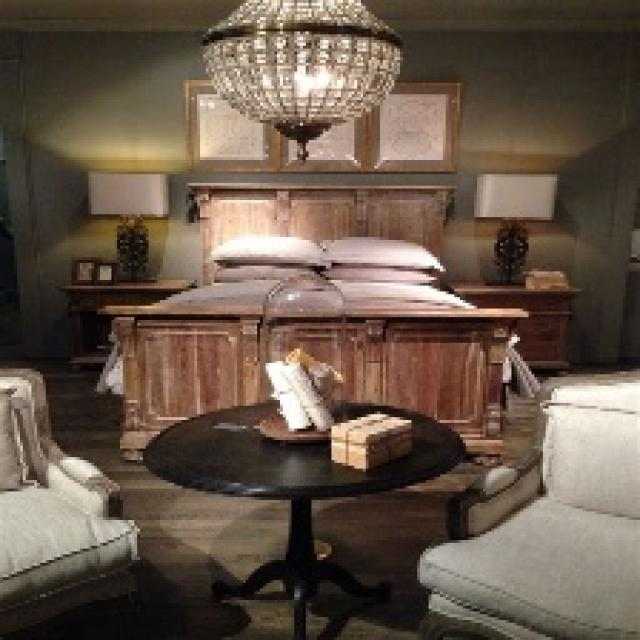Bed: (94, 180, 529, 463)
